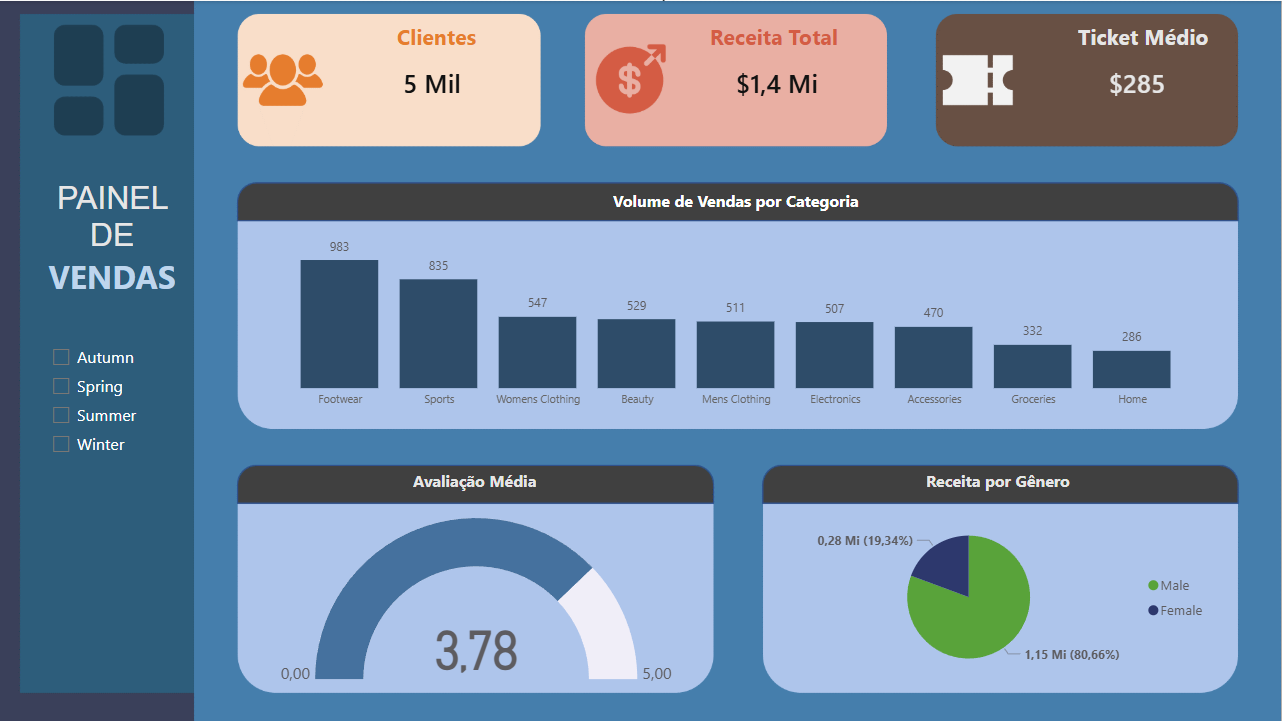

Layout of this report page (visuals, bound fields, positions):
{"tool":"powerbi","page":{"name":"Página 1","canvas":[1280,720],"ordinal":0},"visuals":[{"type":"image","box":[0,0,1280,720],"z":0},{"type":"textbox","box":[8,168,208,144],"z":1000},{"type":"cardVisual","fields":{"Data":["CountNonNull(dim_costumer.age)"]},"box":[336,24,192,112],"z":2000},{"type":"cardVisual","fields":{"Data":["Sum(fact_sales.amount)"]},"box":[680,24,192,112],"z":3000},{"type":"cardVisual","fields":{"Data":["Avg(fact_sales.amount)"]},"box":[1040,24,192,112],"z":4000},{"type":"textbox","box":[392,16,168,48],"z":5000},{"type":"textbox","box":[704,16,168,48],"z":6000},{"type":"textbox","box":[1072,16,168,48],"z":7000},{"type":"columnChart","fields":{"Y":["CountNonNull(fact_sales.amount)"],"Category":["dim_product.category"]},"box":[256,224,960,192],"z":8000},{"type":"textbox","box":[608,184,256,32],"z":8002},{"type":"gauge","fields":{"Y":["Avg(fact_sales.item_rating)"]},"box":[264,512,424,176],"z":8003},{"type":"slicer","fields":{"Values":["dim_time.season"]},"box":[40,336,176,328],"z":8004},{"type":"textbox","box":[408,464,136,32],"z":8005},{"type":"pieChart","fields":{"Category":["dim_costumer.gender"],"Y":["Sum(fact_sales.amount)"]},"box":[784,512,432,168],"z":8006},{"type":"textbox","box":[920,464,160,32],"z":8007}]}

Visuals, with their boxes in screenshot pixels (x1, y1, x2, y2), scaled from the page's 1280x720 canvas onto the 1282x721 screenshot:
image: (x1=0, y1=0, x2=1281, y2=720)
textbox: (x1=8, y1=168, x2=216, y2=312)
cardVisual - CountNonNull(dim_costumer.age): (x1=337, y1=24, x2=529, y2=136)
cardVisual - Sum(fact_sales.amount): (x1=681, y1=24, x2=873, y2=136)
cardVisual - Avg(fact_sales.amount): (x1=1042, y1=24, x2=1234, y2=136)
textbox: (x1=393, y1=16, x2=561, y2=64)
textbox: (x1=705, y1=16, x2=873, y2=64)
textbox: (x1=1074, y1=16, x2=1242, y2=64)
columnChart - CountNonNull(fact_sales.amount) x dim_product.category: (x1=256, y1=224, x2=1218, y2=417)
textbox: (x1=609, y1=184, x2=865, y2=216)
gauge - Avg(fact_sales.item_rating): (x1=264, y1=513, x2=689, y2=689)
slicer - dim_time.season: (x1=40, y1=336, x2=216, y2=665)
textbox: (x1=409, y1=465, x2=545, y2=497)
pieChart - dim_costumer.gender x Sum(fact_sales.amount): (x1=785, y1=513, x2=1218, y2=681)
textbox: (x1=921, y1=465, x2=1082, y2=497)
